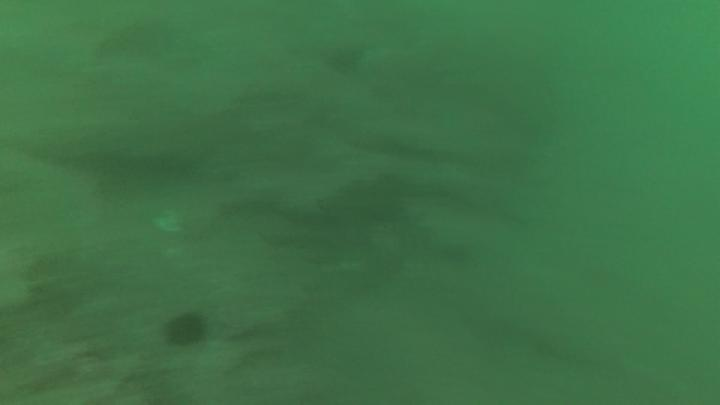echinus: (162, 309, 209, 350)
